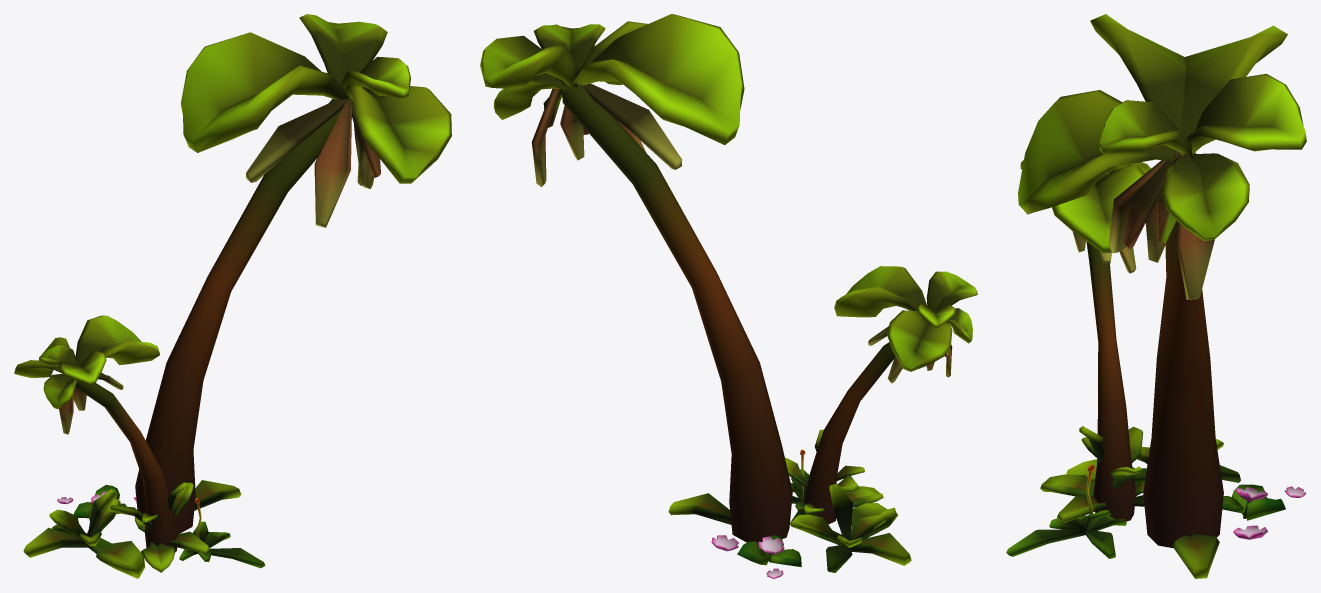
File: Comp_02.fbx
3 renders of one model, left to right at view 1: azimuth 30°, elevation 25°; view 2: azimuth 150°, elevation 25°; view 3: azimuth 270°, elevation 25°, orthographic. The views are drawn at different scales.
Visible parts, largest first — view 1: Comp_02; view 2: Comp_02; view 3: Comp_02.
Part boxes in pixels (<box>): Comp_02: <box>14,14,451,578</box>; Comp_02: <box>480,14,977,578</box>; Comp_02: <box>1006,14,1306,578</box>.
Bounding box in the file's own units: 4687 × 4978 × 2327.
